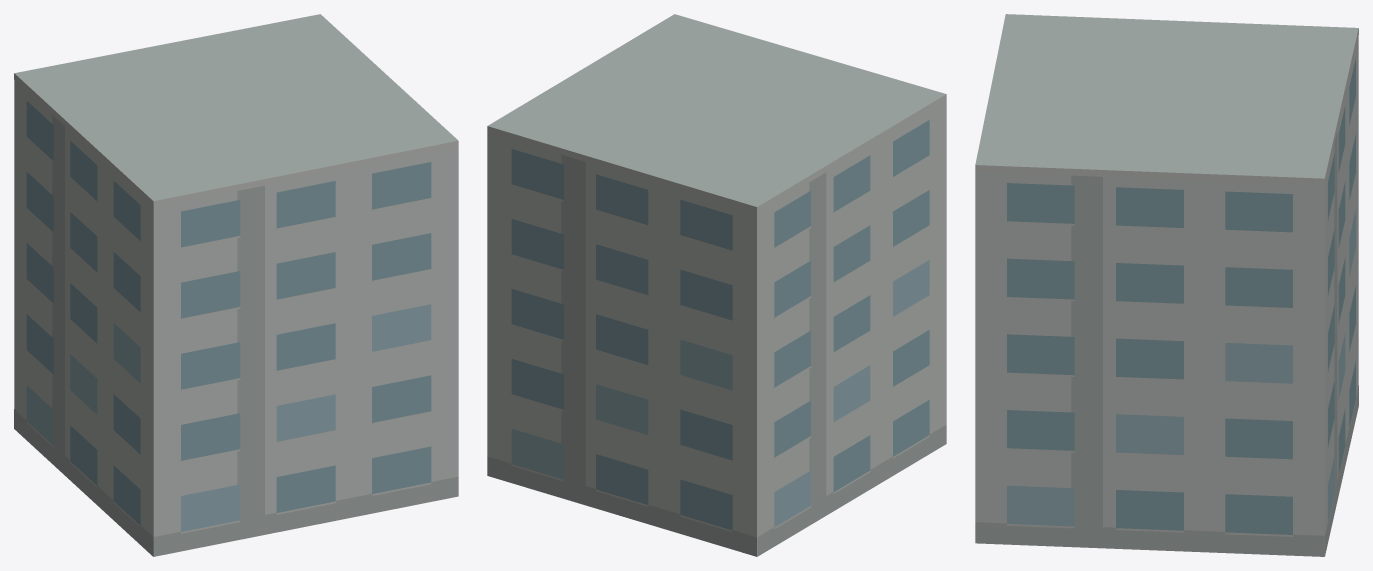
Rendered from survey-upis-32988914.glb.
The picture shows the model from 3 angles, left to right: view 1: azimuth 30°, elevation 25°; view 2: azimuth 150°, elevation 25°; view 3: azimuth 270°, elevation 25°; orthographic projection. The views are drawn at different scales.
Parts seen in each view (by area): view 1: survey-upis-32988914.tmp; view 2: survey-upis-32988914.tmp; view 3: survey-upis-32988914.tmp.
Part boxes in pixels (x1,y1,x2,y2): survey-upis-32988914.tmp: [14, 14, 458, 556]; survey-upis-32988914.tmp: [487, 14, 946, 556]; survey-upis-32988914.tmp: [975, 14, 1358, 556].
Bounding box in the file's own units: 12.51 × 13.4 × 12.32.
